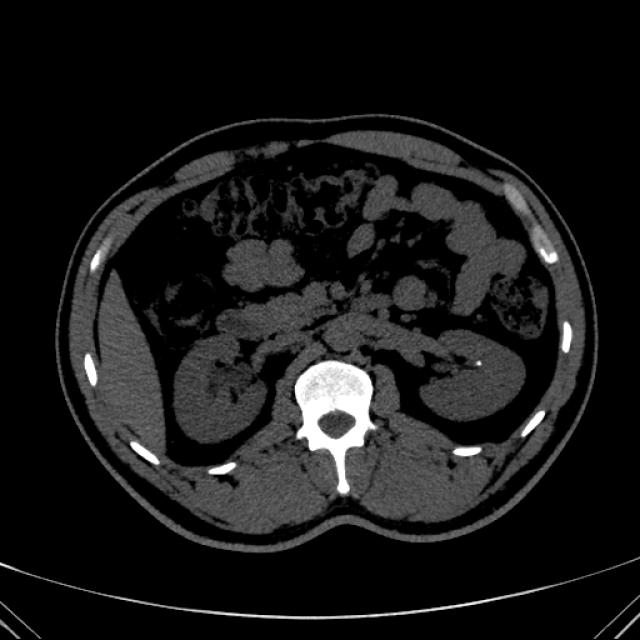kidneystone: (475, 360, 482, 367)
